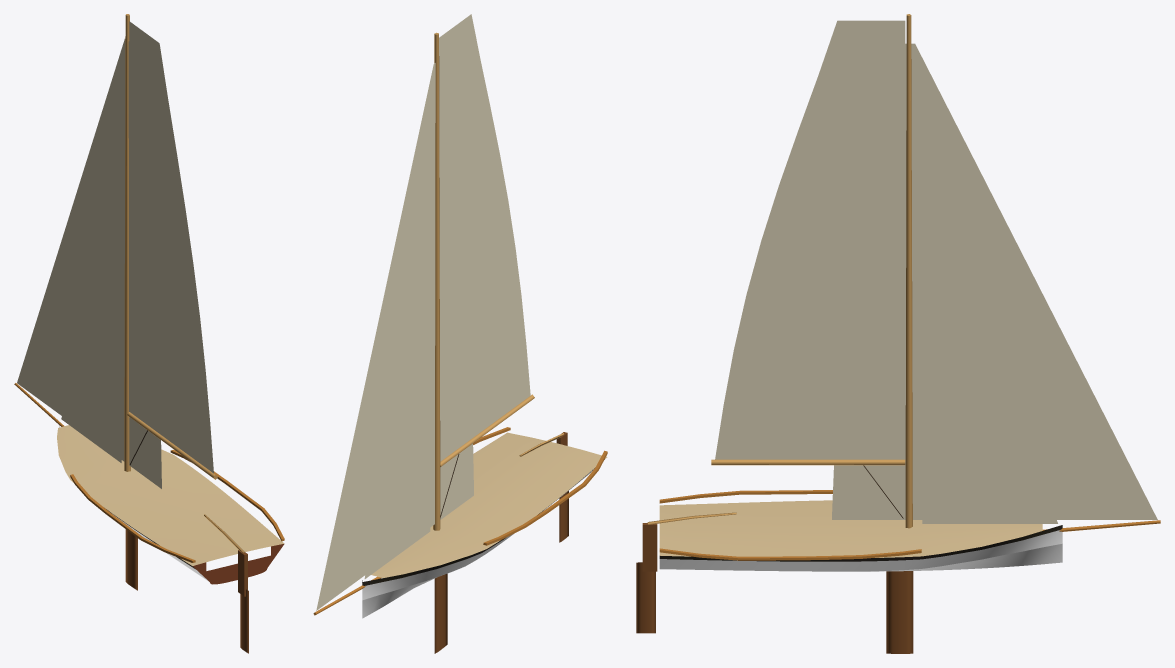
File: skiff.far.glb
3 renders of one model, left to right at view 1: azimuth 30°, elevation 25°; view 2: azimuth 150°, elevation 25°; view 3: azimuth 270°, elevation 25°, orthographic. The views are drawn at different scales.
Visible parts, largest first — view 1: kite, sail, hull, jib, mast, rudder, daggerboard, boom; view 2: kite, sail, hull, jib, mast, daggerboard, boom, rudder; view 3: kite, sail, hull, jib, mast, daggerboard, rudder, boom.
Boxes of the visible parts, x1,y1,x2,y2 form: kite: [17, 39, 161, 488]; sail: [129, 21, 213, 473]; hull: [14, 383, 284, 584]; jib: [61, 129, 125, 462]; mast: [124, 14, 130, 471]; rudder: [238, 550, 248, 653]; daggerboard: [125, 529, 137, 590]; boom: [127, 412, 217, 479]; kite: [316, 53, 473, 610]; sail: [439, 14, 530, 461]; hull: [313, 427, 607, 618]; jib: [364, 163, 434, 578]; mast: [433, 32, 440, 530]; daggerboard: [434, 573, 447, 653]; boom: [440, 394, 534, 466]; rudder: [556, 432, 568, 542]; kite: [832, 43, 1157, 519]; sail: [715, 20, 905, 459]; hull: [659, 490, 1160, 571]; jib: [913, 146, 1057, 523]; mast: [905, 14, 912, 528]; daggerboard: [886, 571, 913, 653]; rudder: [636, 523, 657, 633]; boom: [711, 459, 905, 465].
Size of the model in its own units: 1.77 by 7.78 by 5.79.
